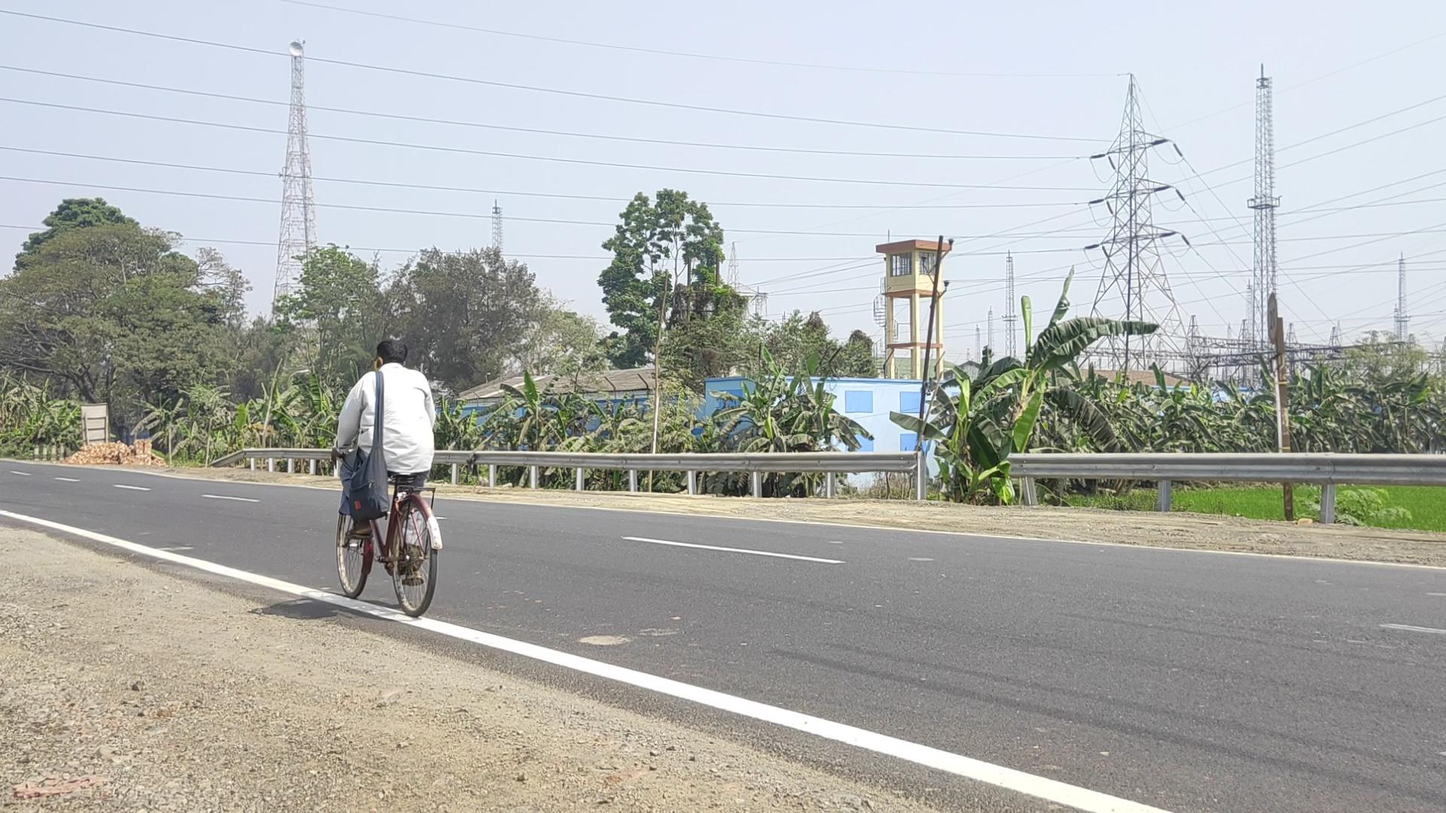bike: (331, 340, 444, 618)
